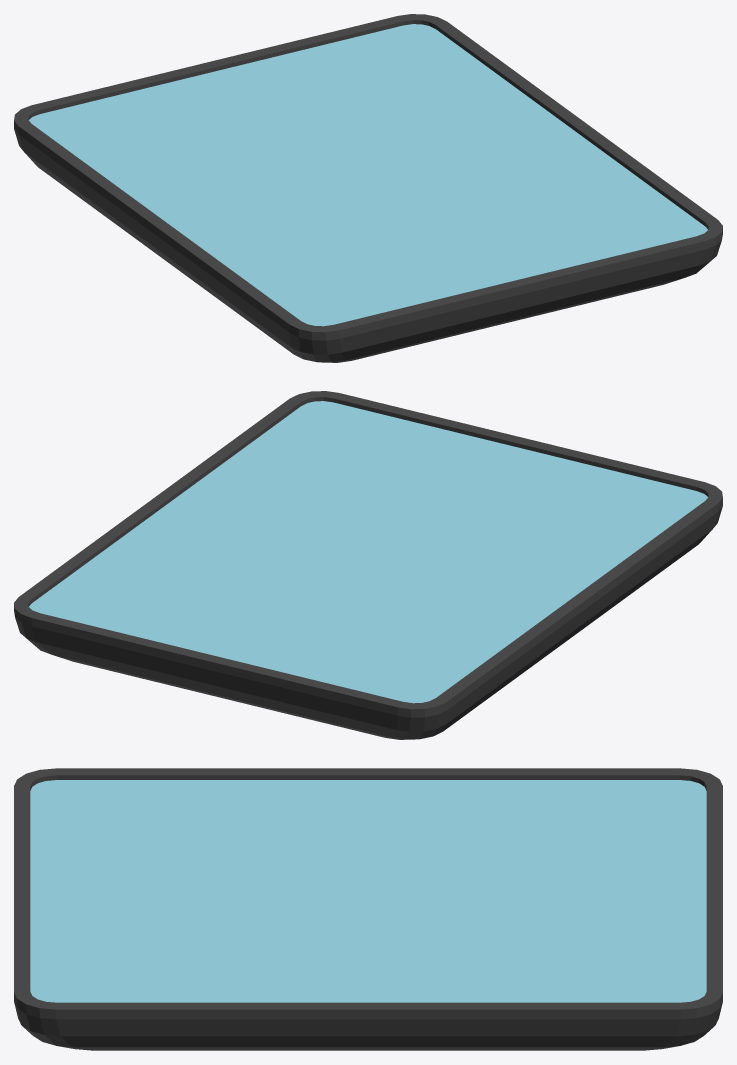
Rendered from Tablet.fbx.
3 renders of one model, top to bottom at view 1: azimuth 30°, elevation 25°; view 2: azimuth 150°, elevation 25°; view 3: azimuth 270°, elevation 25°, orthographic. The views are drawn at different scales.
Parts seen in each view (by area): view 1: Cube; view 2: Cube; view 3: Cube.
Part boxes in pixels (x1,y1,x2,y2): Cube: [14, 14, 722, 362]; Cube: [14, 391, 722, 739]; Cube: [14, 768, 722, 1050].
Bounding box in the file's own units: 19.04 × 2.16 × 23.66.
